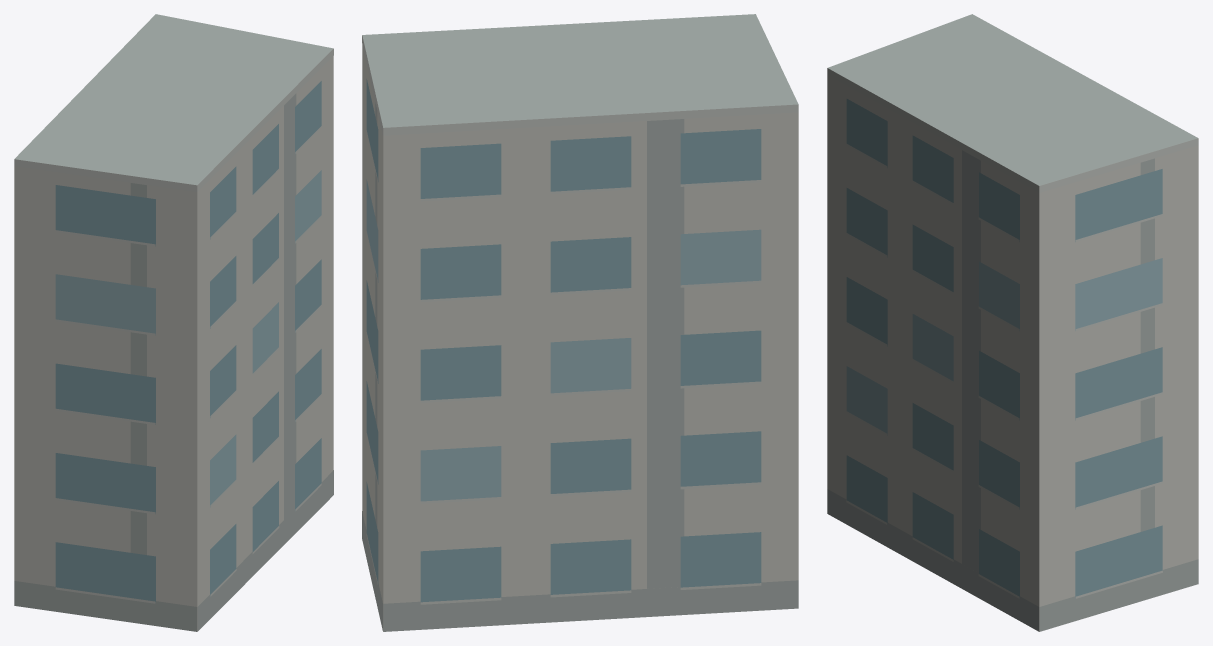
Rendered from survey-upis-32948783.glb.
The picture shows the model from 3 angles, left to right: view 1: azimuth 30°, elevation 25°; view 2: azimuth 150°, elevation 25°; view 3: azimuth 270°, elevation 25°; orthographic projection. The views are drawn at different scales.
Parts seen in each view (by area): view 1: survey-upis-32948783.tmp; view 2: survey-upis-32948783.tmp; view 3: survey-upis-32948783.tmp.
Part boxes in pixels (x1=…): survey-upis-32948783.tmp: x1=14, y1=14, x2=333, y2=631; survey-upis-32948783.tmp: x1=362, y1=14, x2=798, y2=631; survey-upis-32948783.tmp: x1=827, y1=14, x2=1198, y2=631.
Bounding box in the file's own units: 12.67 × 15.3 × 11.55.
